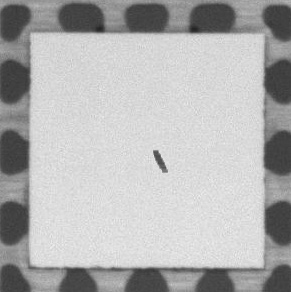DIE_INK: (151, 148, 168, 175)
